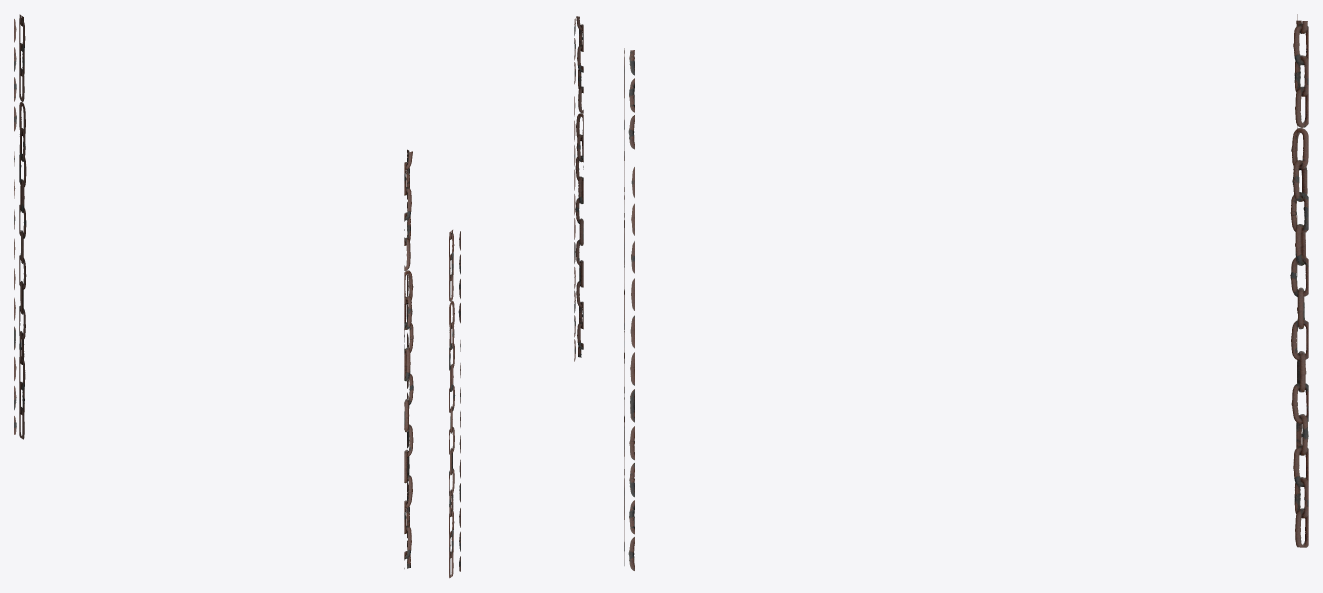
File: SM_Chateaux_06_Chain_00.fbx
The picture shows the model from 3 angles, left to right: view 1: azimuth 30°, elevation 25°; view 2: azimuth 150°, elevation 25°; view 3: azimuth 270°, elevation 25°; orthographic projection. The views are drawn at different scales.
Parts seen in each view (by area): view 1: SM_Chateaux_06_Chain_00; view 2: SM_Chateaux_06_Chain_00; view 3: SM_Chateaux_06_Chain_00.
Boxes of the visible parts, x1,y1,x2,y2 form: SM_Chateaux_06_Chain_00: (14, 14, 413, 568); SM_Chateaux_06_Chain_00: (449, 16, 583, 578); SM_Chateaux_06_Chain_00: (624, 14, 1308, 570).
Bounding box in the file's own units: 359 × 1153 × 1276.
